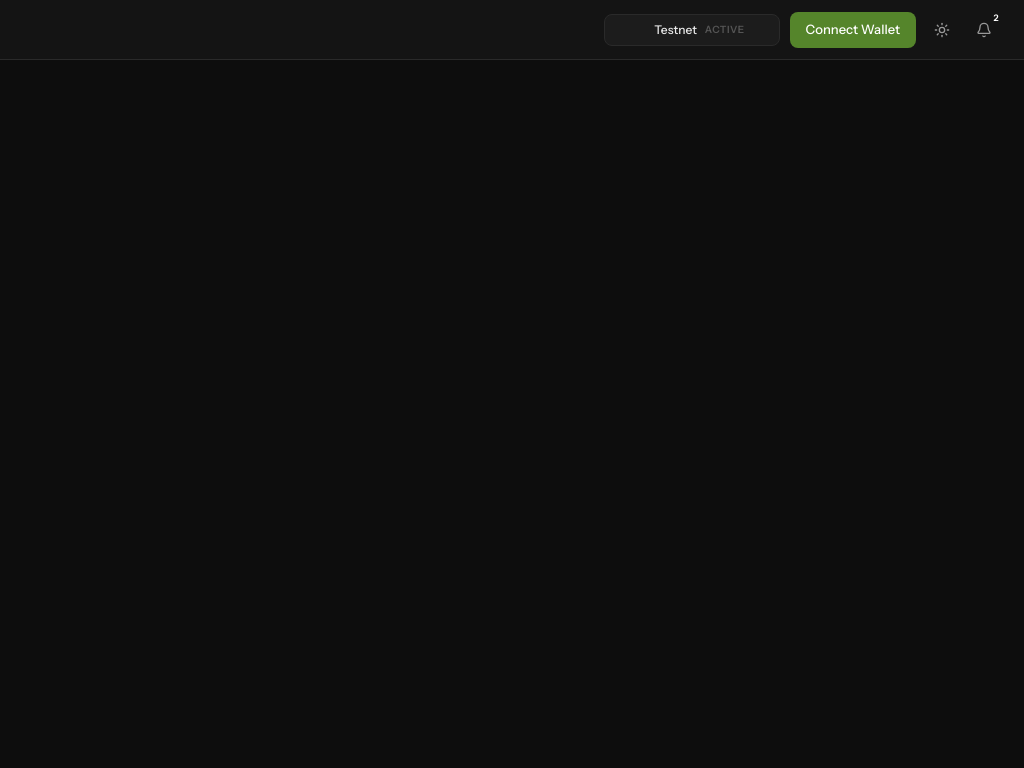
it: TopBar › clears the unread badge when notifications open without dismissing them
The image size is (1024, 768).
Step 1. Click the button named "Notifications, 2 unread" → (984, 30), box [968,14,1000,46]
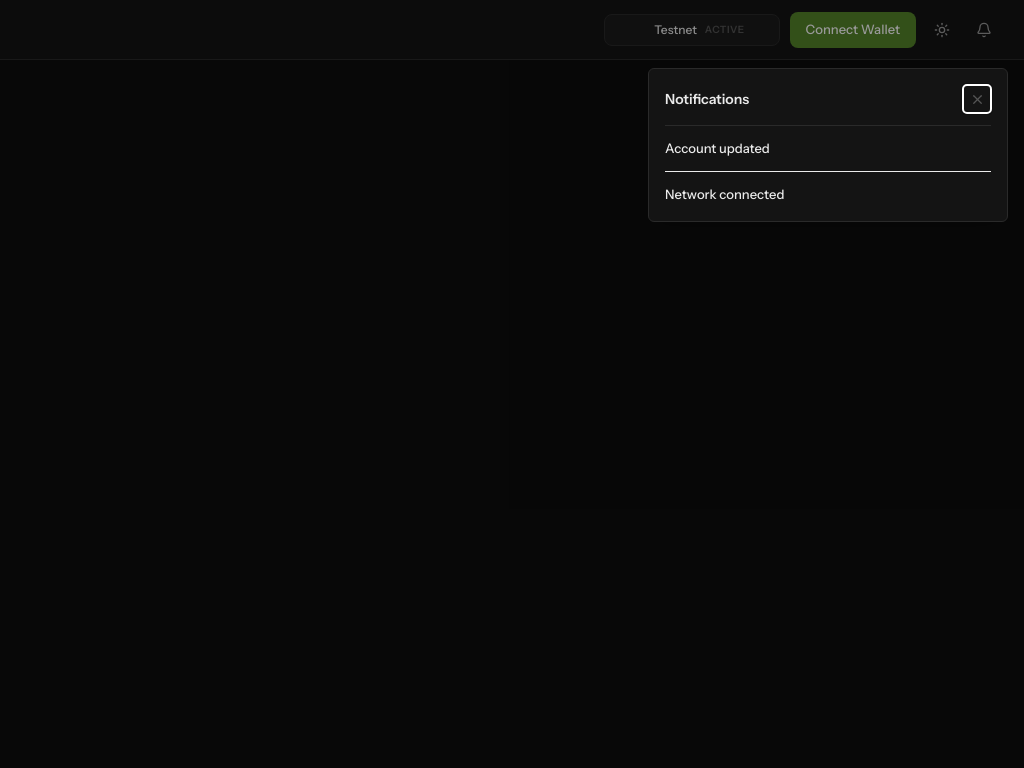
expect the dialog "Notifications" is shown: met, box [648,68,1008,222]
expect the text "Account updated" is shown: met, box [665,140,770,156]
expect the text "Network connected" is shown: met, box [665,186,784,202]
